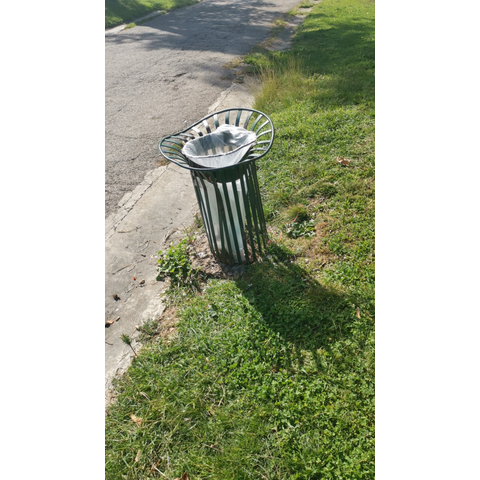poubelle: (157, 102, 285, 279)
